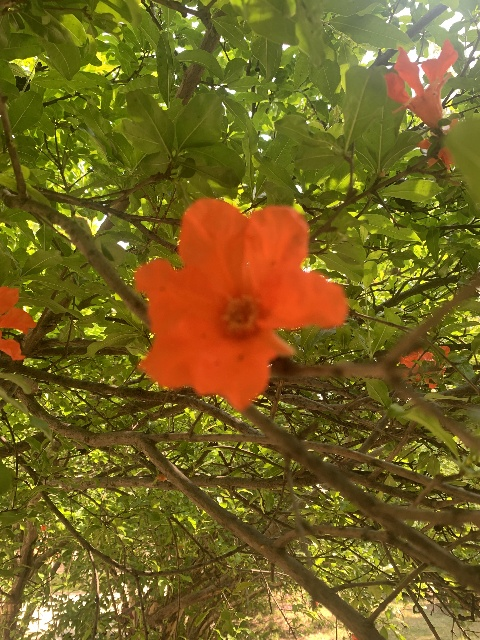bud: (156, 473, 167, 481)
flower: (133, 197, 349, 413), (383, 39, 458, 129), (0, 286, 37, 360), (415, 116, 458, 170), (399, 346, 450, 389), (40, 524, 46, 531)
